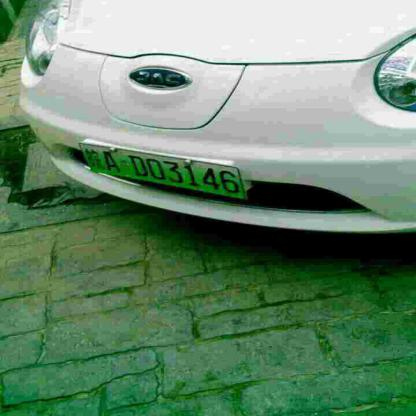lp: (80, 143, 242, 198)
